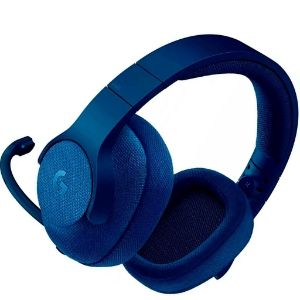headset: (1, 33, 299, 297)
